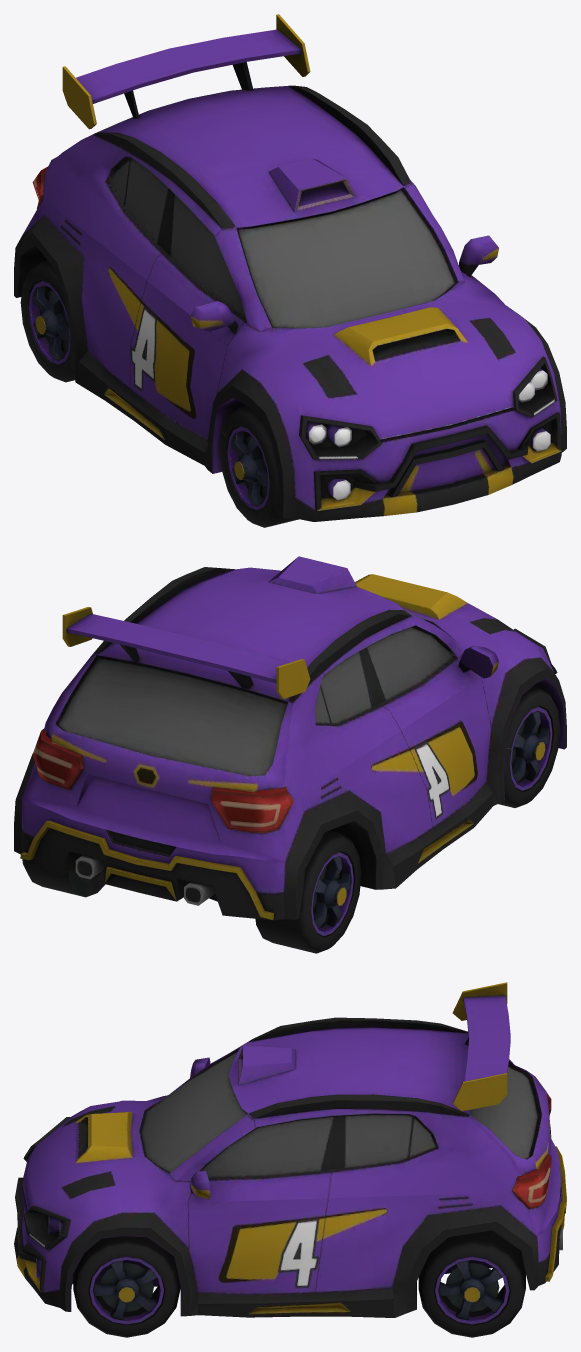
Rendered from Car.glb.
3 renders of one model, top to bottom at view 1: azimuth 30°, elevation 25°; view 2: azimuth 150°, elevation 25°; view 3: azimuth 270°, elevation 25°, orthographic. The views are drawn at different scales.
Visible parts, largest first — view 1: Body, F_Right_Wheel, B_Right_Wheel; view 2: Body, B_Right_Wheel, F_Right_Wheel, B_left_Wheel; view 3: Body, B_left_Wheel, F_left_Wheel.
Part boxes in pixels (x1,y1,x2,y2): Body: (14, 14, 566, 521); F_Right_Wheel: (219, 406, 298, 527); B_Right_Wheel: (20, 260, 75, 382); Body: (14, 556, 566, 920); B_Right_Wheel: (255, 830, 361, 953); F_Right_Wheel: (498, 686, 560, 807); B_left_Wheel: (22, 859, 105, 897); Body: (14, 982, 566, 1317); B_left_Wheel: (418, 1230, 525, 1337); F_left_Wheel: (73, 1236, 180, 1337).
Size of the model in its own units: 2.32 by 2 by 3.99.
1 material, 1 textured.
